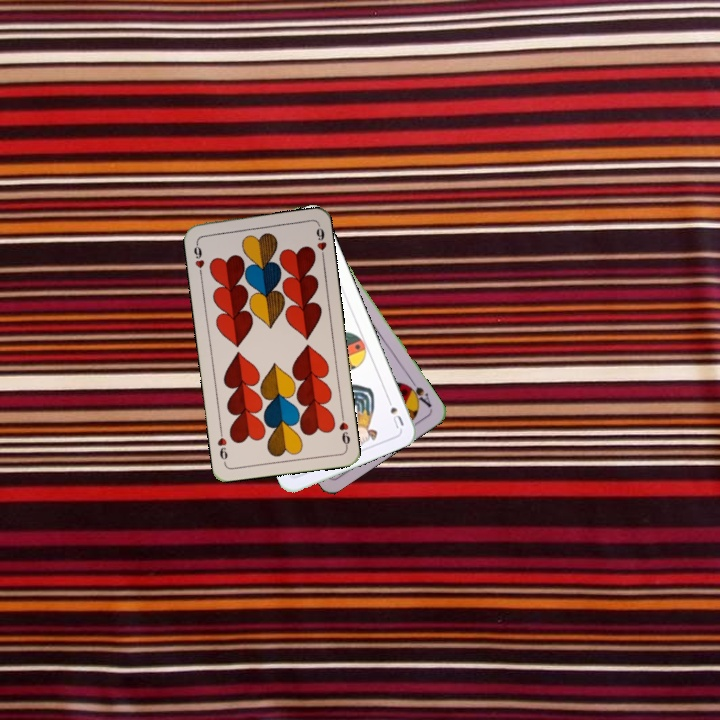H9: (335, 410, 352, 450), (190, 238, 207, 278)
SA: (402, 375, 434, 410)
SU: (382, 392, 406, 432)
